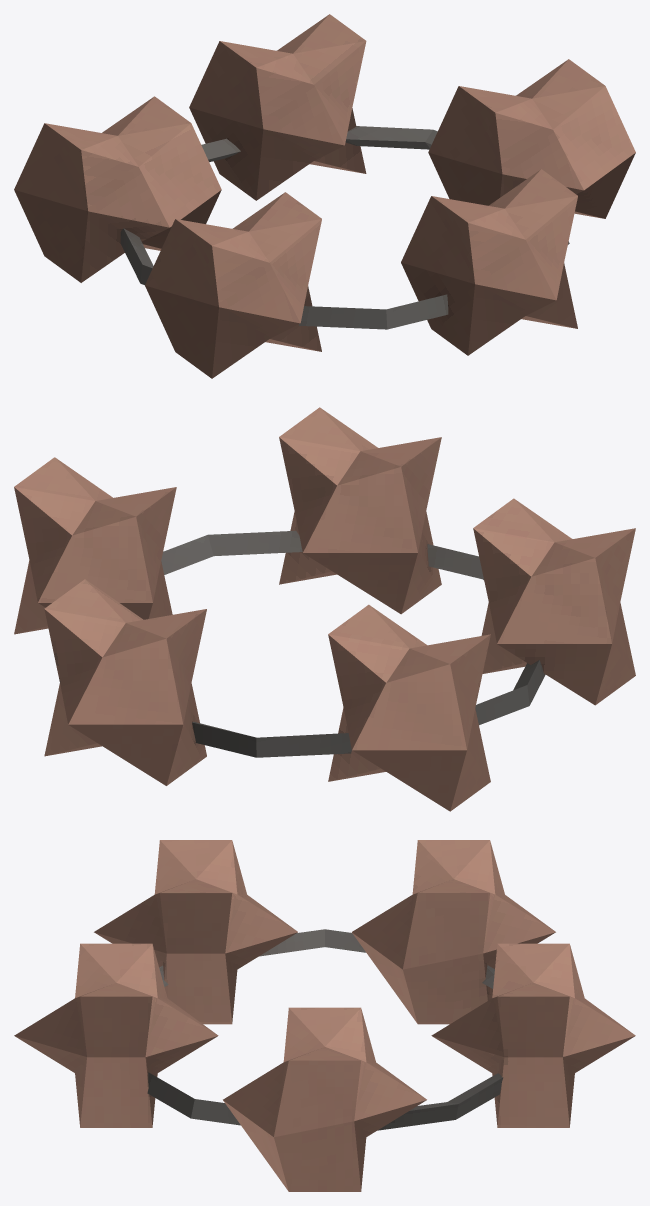
File: corona.glb
The picture shows the model from 3 angles, top to bottom: view 1: azimuth 30°, elevation 25°; view 2: azimuth 150°, elevation 25°; view 3: azimuth 270°, elevation 25°; orthographic projection. The views are drawn at different scales.
Visible parts, largest first — view 1: Prop_Corona; view 2: Prop_Corona; view 3: Prop_Corona.
Part boxes in pixels (left/top/right/bottom): Prop_Corona: left=14, top=14, right=635, bottom=378; Prop_Corona: left=14, top=407, right=635, bottom=811; Prop_Corona: left=14, top=840, right=635, bottom=1191.
Bounding box in the file's own units: 0.3926 × 0.099 × 0.4253.
1 material, 1 textured.
